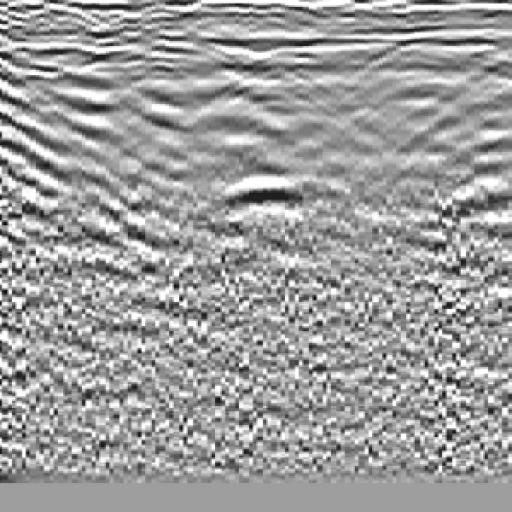metalic: (188, 132, 357, 265)
nonmetalic: (1, 43, 146, 262)
